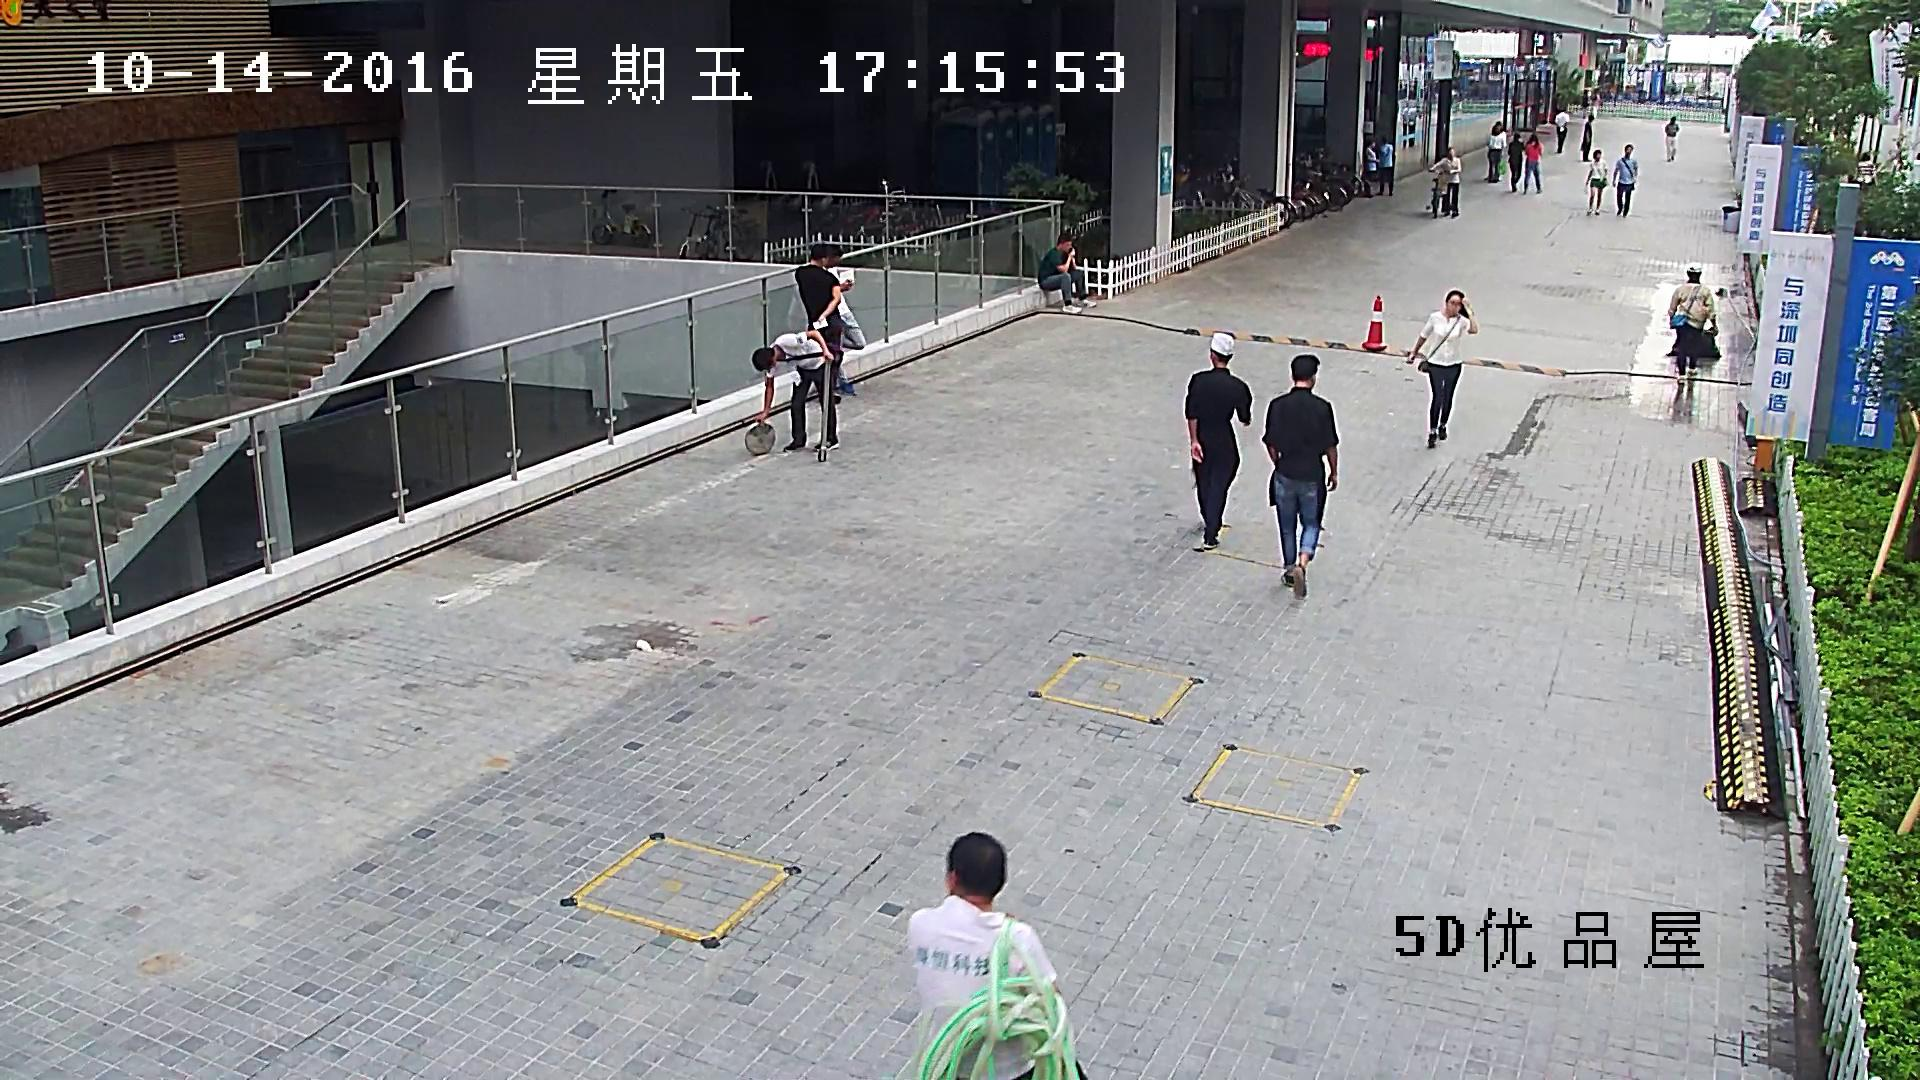person: (903, 831, 1088, 1080), (1261, 353, 1339, 599), (1183, 330, 1253, 551), (743, 328, 841, 463), (1405, 290, 1478, 449), (748, 330, 840, 454), (794, 242, 843, 402), (1665, 263, 1721, 385), (1667, 263, 1719, 384), (825, 241, 866, 395), (1036, 230, 1097, 315), (1424, 146, 1463, 219), (1428, 146, 1463, 218), (1611, 144, 1638, 217), (1584, 149, 1608, 216), (1483, 120, 1507, 182), (1523, 132, 1543, 194), (1506, 132, 1524, 192), (1379, 135, 1395, 196), (1553, 106, 1569, 153), (1855, 151, 1876, 187), (1664, 116, 1679, 162), (1580, 113, 1593, 162), (1365, 137, 1380, 179), (1589, 87, 1602, 119), (1580, 89, 1589, 119)
